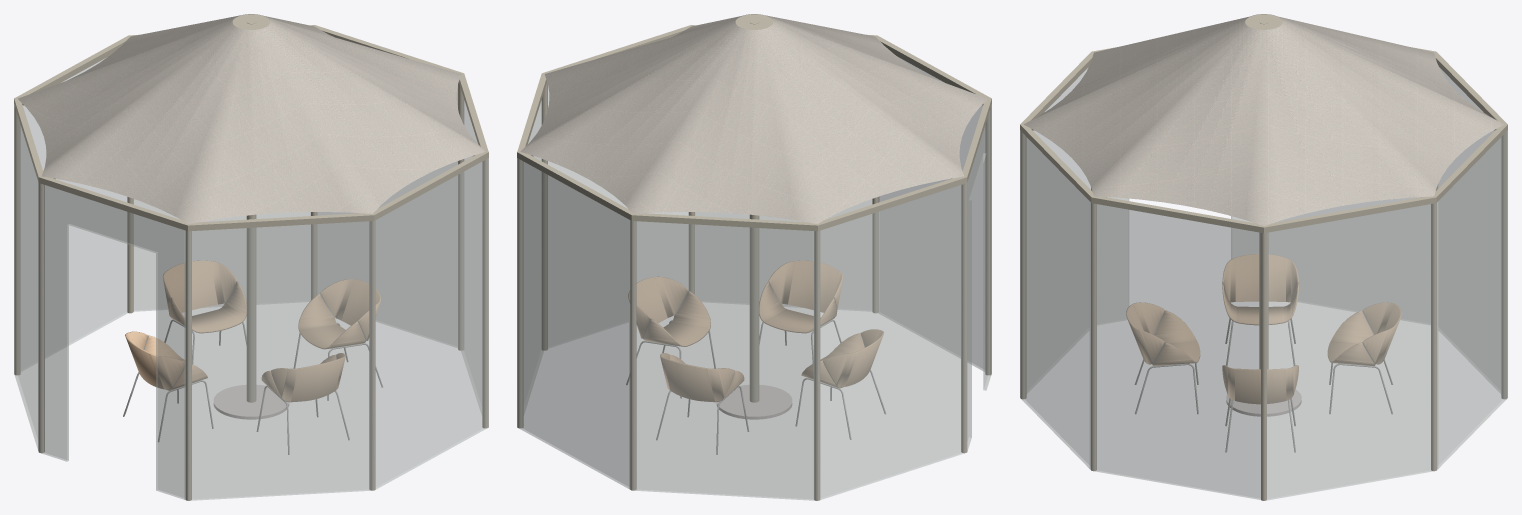
File: UMBRELLA 3.glb
3 renders of one model, left to right at view 1: azimuth 30°, elevation 25°; view 2: azimuth 150°, elevation 25°; view 3: azimuth 270°, elevation 25°, orthographic.
Parts seen in each view (by area): view 1: TRANSPARENT SHEET, CANOPY, POLES, CHAIR 2 BACK REST, CHAIR 1 BACK REST, CHAIR 3 BACK REST, CHAIR 4 BACK REST; view 2: TRANSPARENT SHEET, CANOPY, POLES, CHAIR 3 BACK REST, CHAIR 1 BACK REST, CHAIR 4 BACK REST, CHAIR 2 BACK REST; view 3: TRANSPARENT SHEET, CANOPY, POLES, CHAIR 4 BACK REST, CHAIR 2 BACK REST, CHAIR 3 BACK REST, CHAIR 1 BACK REST.
Boxes of the visible parts, x1,y1,x2,y2 form: TRANSPARENT SHEET: (14,58,488,500); CANOPY: (18,14,485,223); POLES: (14,14,488,500); CHAIR 2 BACK REST: (163,260,246,333); CHAIR 1 BACK REST: (298,279,381,349); CHAIR 3 BACK REST: (261,353,345,402); CHAIR 4 BACK REST: (125,331,207,390); TRANSPARENT SHEET: (517,58,991,500); CANOPY: (520,14,987,223); POLES: (517,14,991,500); CHAIR 3 BACK REST: (759,260,842,333); CHAIR 1 BACK REST: (628,276,710,346); CHAIR 4 BACK REST: (801,329,883,388); CHAIR 2 BACK REST: (660,353,744,402); TRANSPARENT SHEET: (1020,68,1507,500); CANOPY: (1023,14,1504,225); POLES: (1020,14,1507,500); CHAIR 4 BACK REST: (1222,254,1298,325); CHAIR 2 BACK REST: (1327,302,1401,365); CHAIR 3 BACK REST: (1126,302,1200,365); CHAIR 1 BACK REST: (1222,365,1298,404).
Bounding box in the file's own units: 3.94 × 3.38 × 3.94.
Materials: 9 (4 with a texture image).
